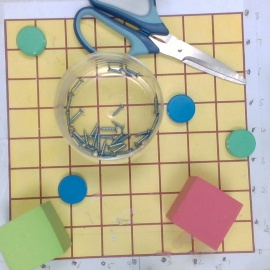blue: (57, 174, 88, 204), (167, 94, 196, 124)
green: (16, 26, 49, 56), (224, 128, 257, 158)
